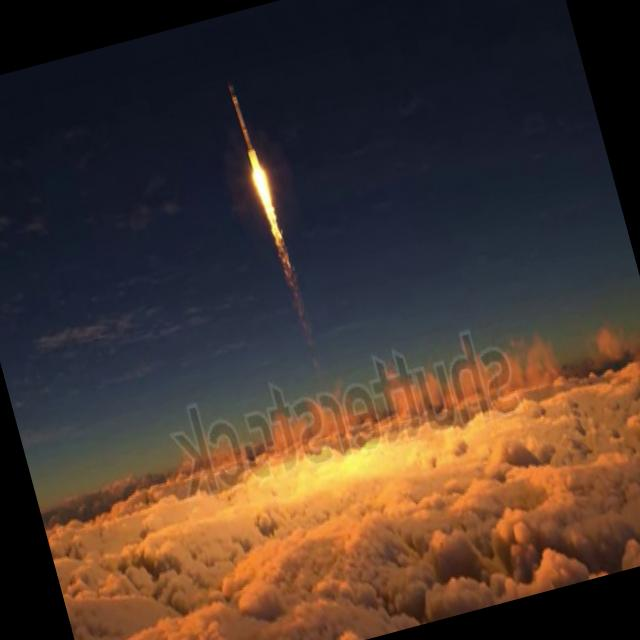rocket: (220, 70, 307, 312)
